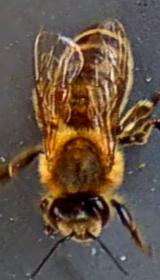varroa_mite: (44, 84, 72, 114)
